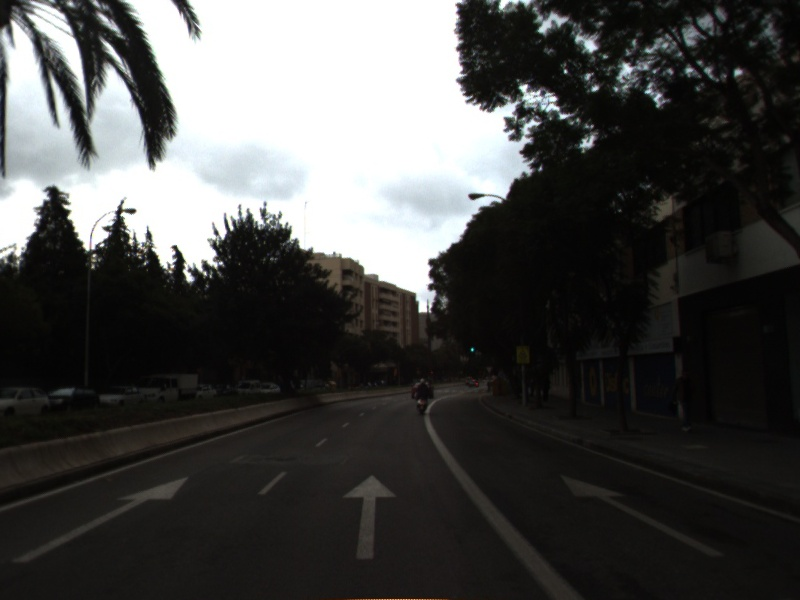STRAIGHT: (8, 473, 192, 567), (560, 473, 726, 559), (339, 473, 400, 561)
